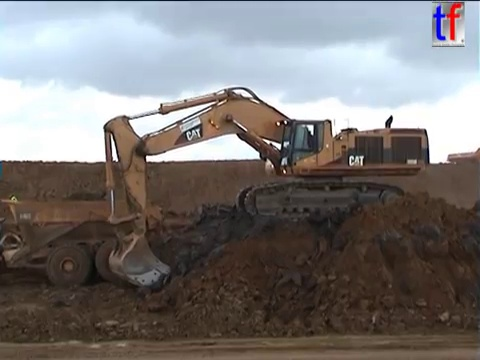excavator: (100, 83, 432, 290)
truck: (1, 196, 165, 289), (446, 146, 480, 169)
worker: (5, 190, 20, 216)
